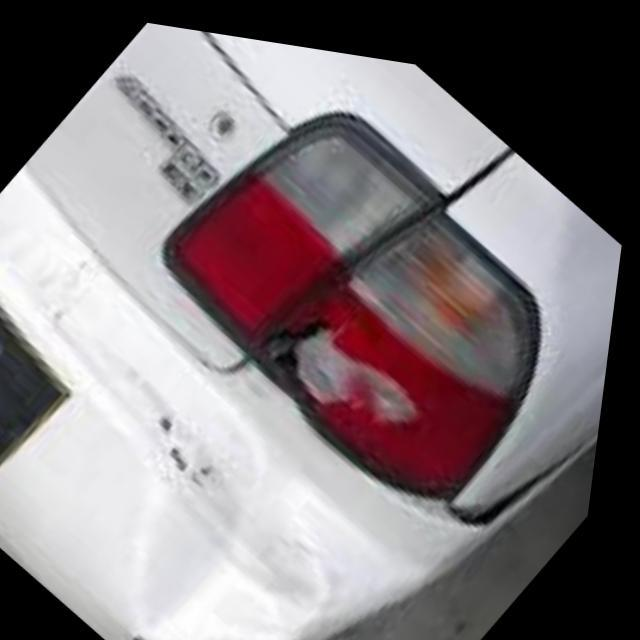dent: (125, 385, 369, 640)
lamp broken: (278, 316, 435, 433)
